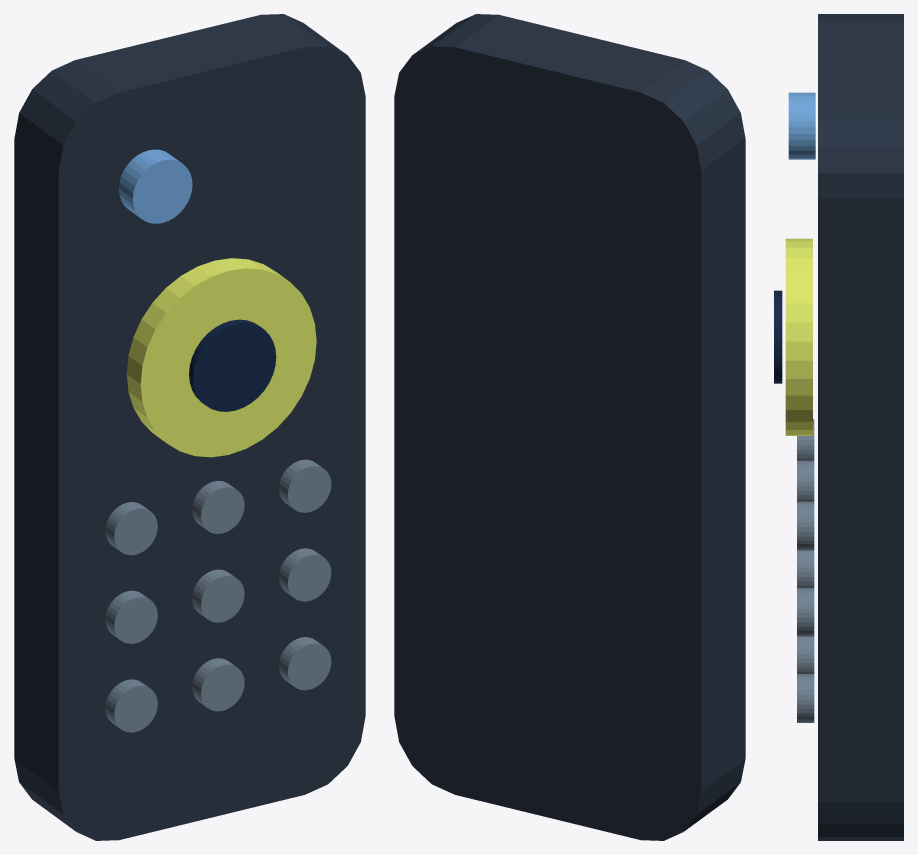
Rendered from remote.glb.
The picture shows the model from 3 angles, left to right: view 1: azimuth 30°, elevation 25°; view 2: azimuth 150°, elevation 25°; view 3: azimuth 270°, elevation 25°; orthographic projection. The views are drawn at different scales.
Parts seen in each view (by area): view 1: housing, direction ring, ok button, power key, key 1-2, key 0-2, key 1-1, key 0-1, key 2-1, key 0-0, key 2-0, key 1-0 (+1 smaller); view 2: housing; view 3: housing, direction ring, power key, key 2-0, key 2-1, key 2-2, ok button, key 1-0, key 1-1, key 1-2, key 0-0.
Part boxes in pixels (left/top/right/bottom): housing: left=14, top=14, right=365, bottom=840; direction ring: left=126, top=258, right=316, bottom=457; ok button: left=189, top=319, right=276, bottom=411; power key: left=119, top=149, right=192, bottom=223; key 1-2: left=192, top=658, right=244, bottom=711; key 0-2: left=105, top=679, right=157, bottom=732; key 1-1: left=192, top=569, right=244, bottom=622; key 0-1: left=105, top=590, right=157, bottom=643; key 2-1: left=279, top=548, right=331, bottom=601; key 0-0: left=105, top=502, right=157, bottom=555; key 2-0: left=279, top=459, right=331, bottom=512; key 1-0: left=192, top=480, right=244, bottom=533; housing: left=394, top=14, right=745, bottom=840; housing: left=818, top=14, right=903, bottom=840; direction ring: left=785, top=238, right=812, bottom=435; power key: left=788, top=92, right=815, bottom=159; key 2-0: left=797, top=501, right=814, bottom=550; key 2-1: left=797, top=588, right=814, bottom=636; key 2-2: left=797, top=674, right=814, bottom=722; ok button: left=774, top=290, right=782, bottom=383; key 1-0: left=797, top=460, right=814, bottom=501; key 1-1: left=797, top=550, right=814, bottom=587; key 1-2: left=797, top=636, right=814, bottom=673; key 0-0: left=797, top=419, right=814, bottom=460.
Size of the model in its own units: 0.76 by 1.77 by 0.287.
